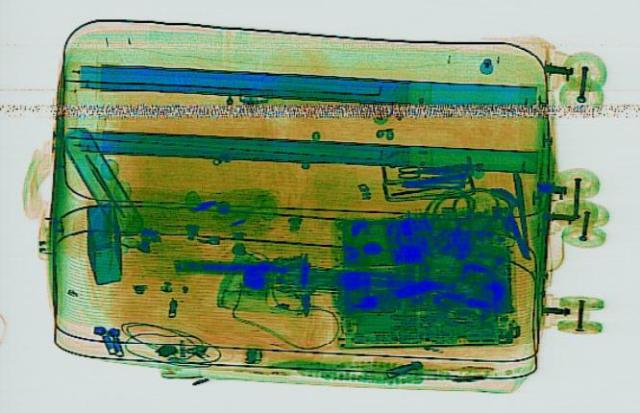Scissors: (395, 161, 447, 179)
